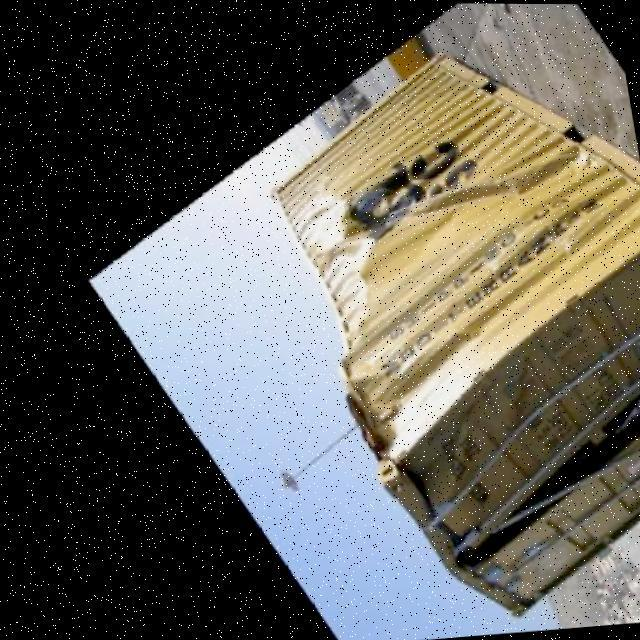dent: (338, 291, 640, 619), (270, 174, 405, 400)
